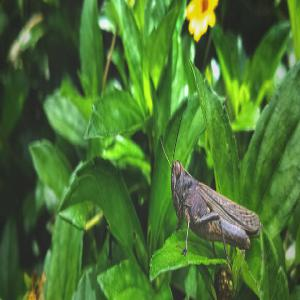locust: (168, 147, 262, 265)
